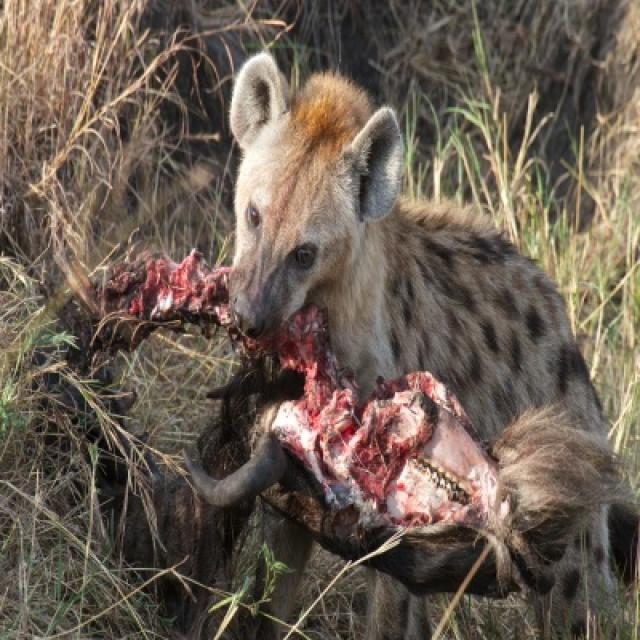hyena: (226, 53, 610, 453)
